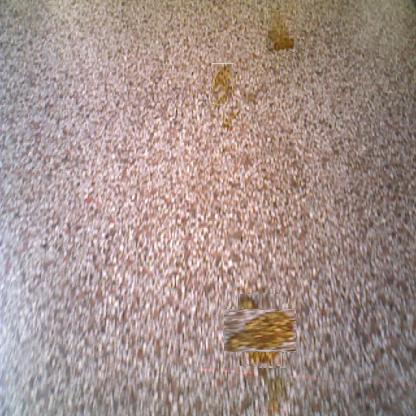liquid: (231, 301, 289, 359), (258, 368, 290, 416), (268, 10, 296, 52), (212, 63, 234, 104), (221, 108, 237, 130)
